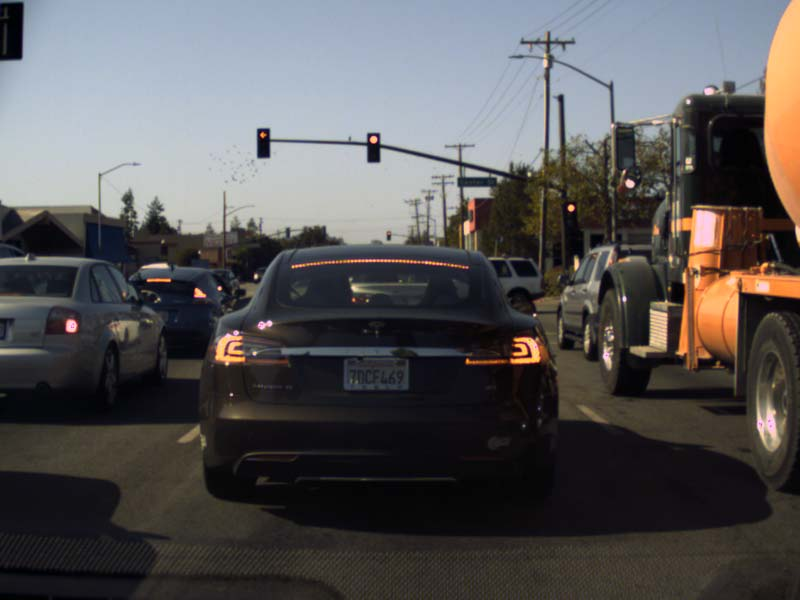Red: (562, 201, 577, 232), (367, 133, 380, 162), (257, 127, 269, 156)
